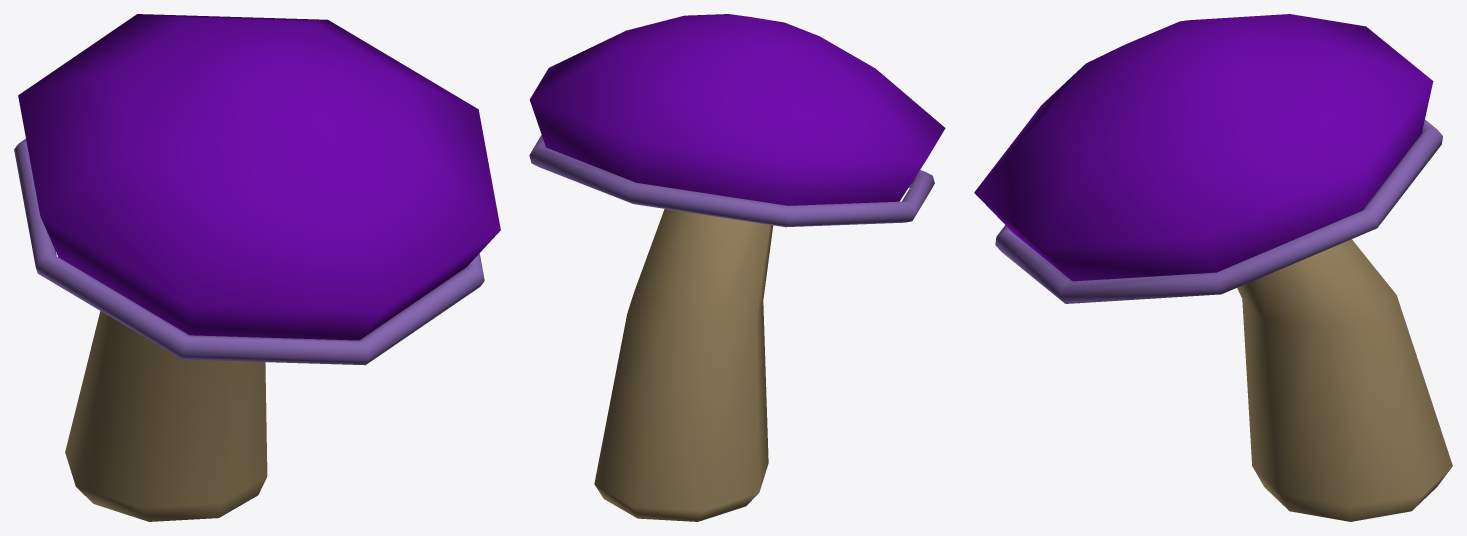
The model's file is purple_mush.fbx.
The picture shows the model from 3 angles, left to right: view 1: azimuth 30°, elevation 25°; view 2: azimuth 150°, elevation 25°; view 3: azimuth 270°, elevation 25°; orthographic projection. The views are drawn at different scales.
Visible parts, largest first — view 1: Mush; view 2: Mush; view 3: Mush.
Boxes of the visible parts, x1,y1,x2,y2 form: Mush: [14, 14, 500, 521]; Mush: [529, 14, 945, 521]; Mush: [974, 14, 1452, 521].
Size of the model in its own units: 1.13 by 1.19 by 1.13.
